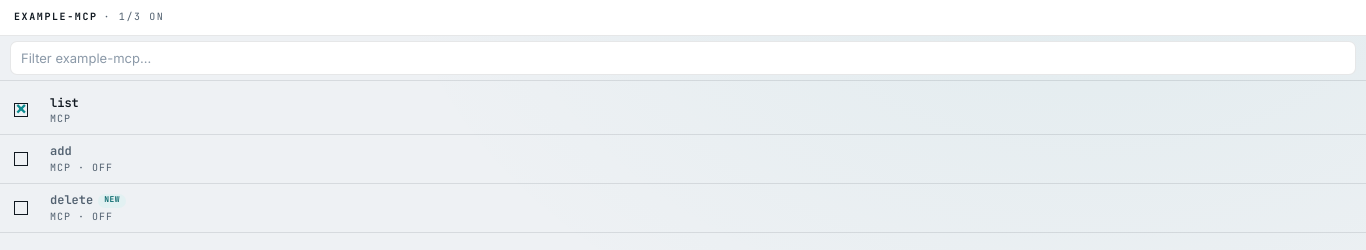
Test: ToolList › search filters tool names within the active source
In the field: (683, 58) [10,40,1356,74], type "lis"
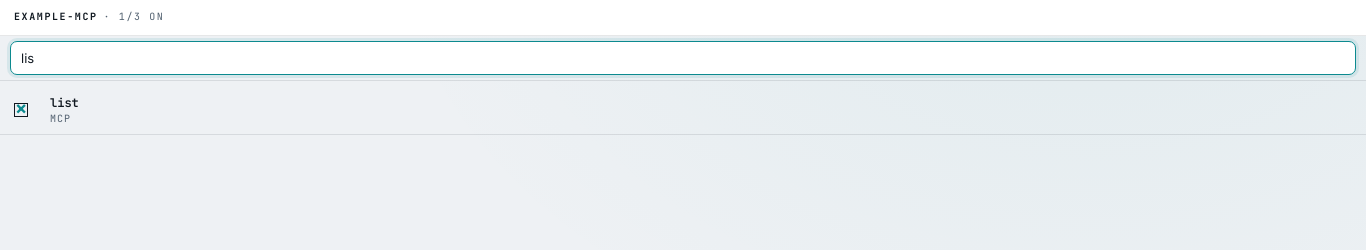
Expected: the text "list" is shown, [50,94,79,110]
Result: the button "add" is gone
